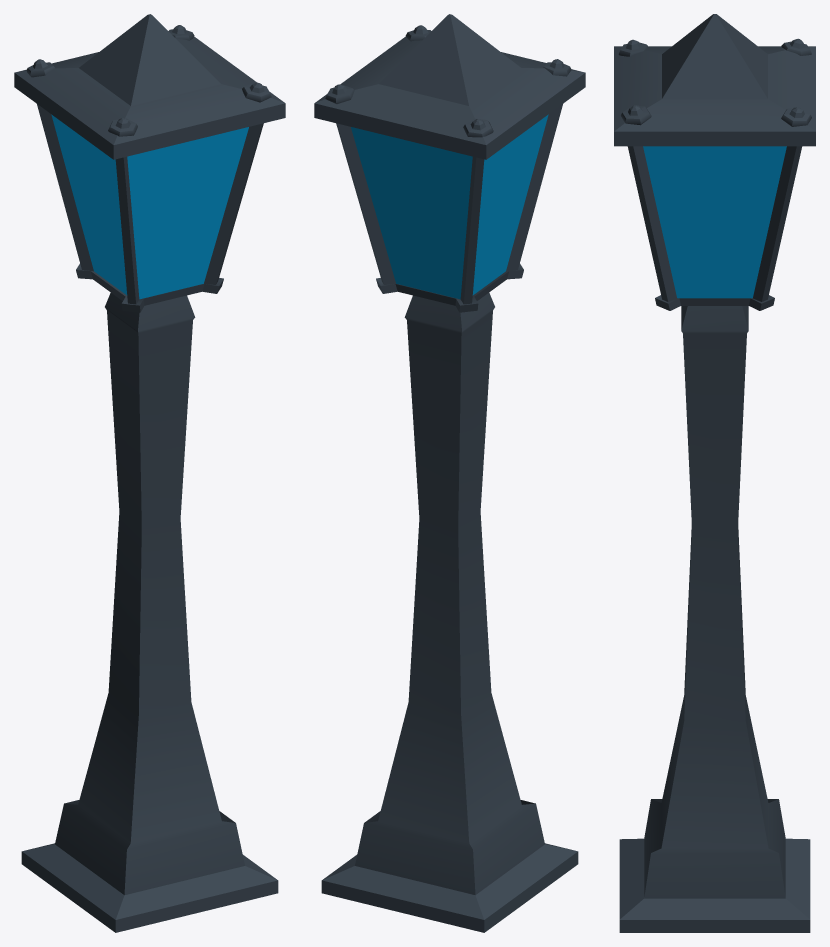
File: CH_GA_prop_StreetLight_Hell.FBX
3 renders of one model, left to right at view 1: azimuth 30°, elevation 25°; view 2: azimuth 150°, elevation 25°; view 3: azimuth 270°, elevation 25°, orthographic.
Parts seen in each view (by area): view 1: CH_GA_prop_StreetLight_Hell; view 2: CH_GA_prop_StreetLight_Hell; view 3: CH_GA_prop_StreetLight_Hell.
Boxes of the visible parts, x1,y1,x2,y2 form: CH_GA_prop_StreetLight_Hell: [14, 14, 285, 932]; CH_GA_prop_StreetLight_Hell: [314, 14, 585, 932]; CH_GA_prop_StreetLight_Hell: [614, 14, 815, 932].
Bounding box in the file's own units: 86.13 × 413 × 86.13.
